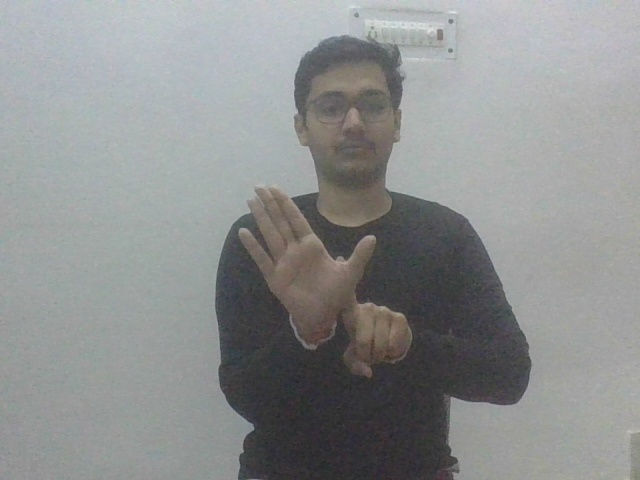Y: (239, 184, 416, 383)
